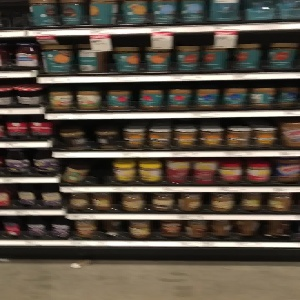void: (1, 2, 27, 31), (87, 160, 113, 187)
